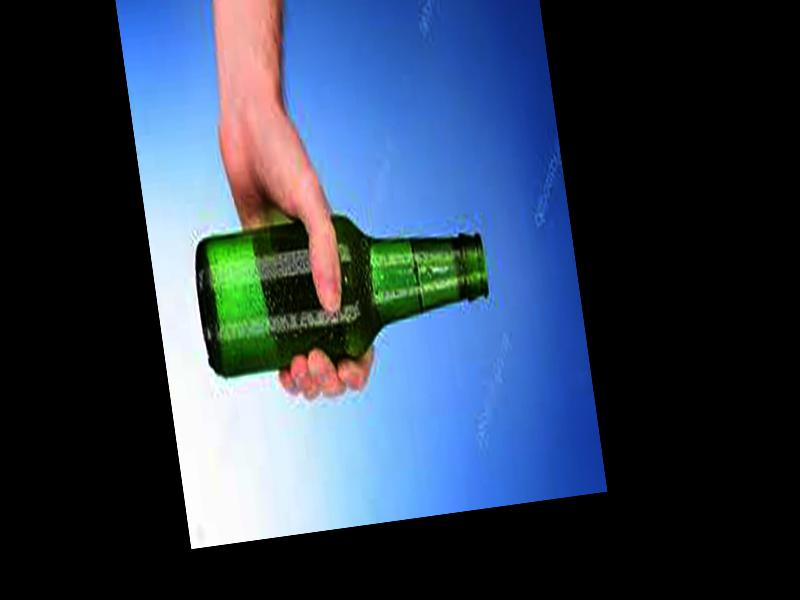Beer: (189, 200, 496, 376)
